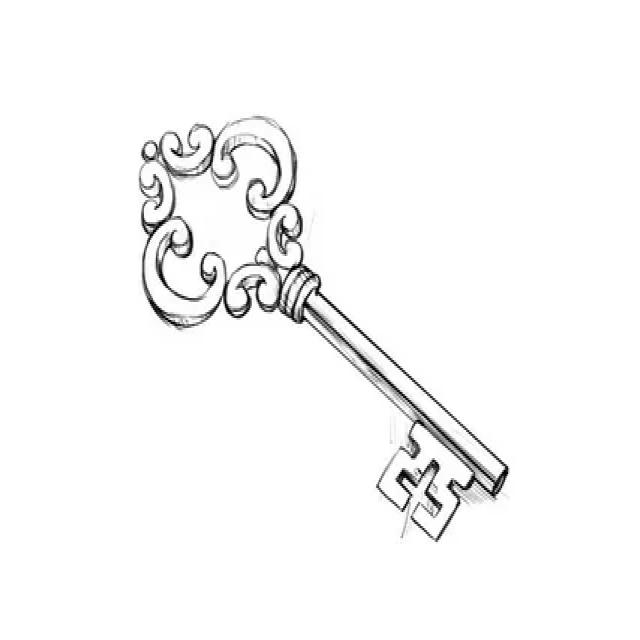key: (117, 93, 528, 543)
